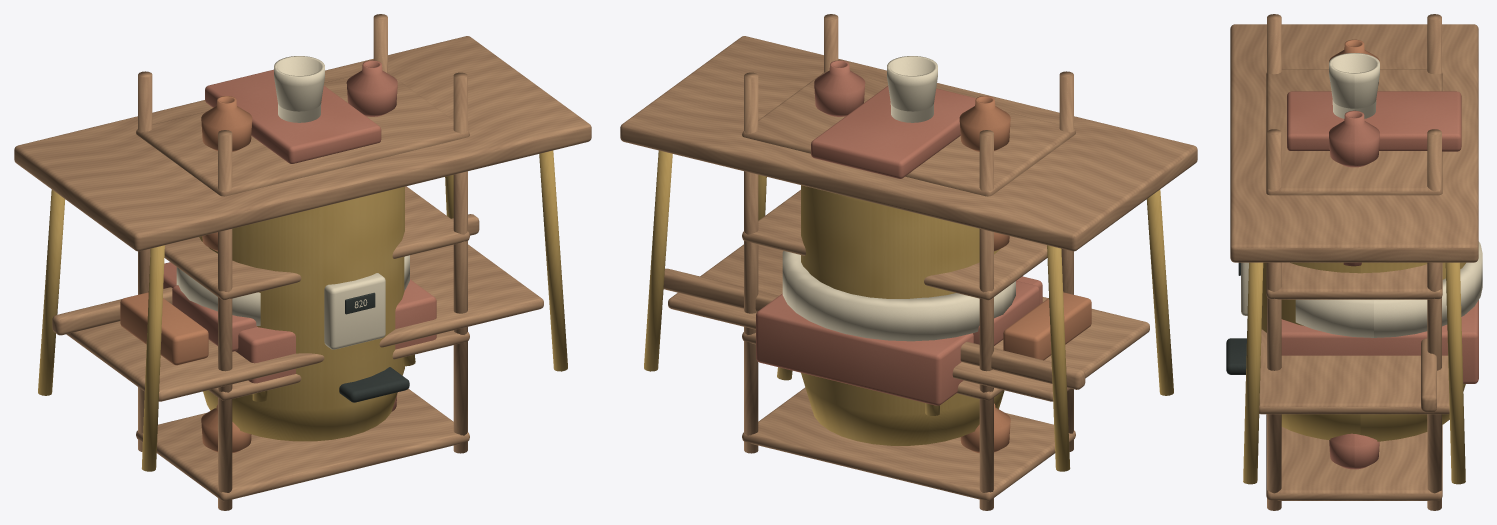
Rendered from tidy-life-workshop.glb.
The picture shows the model from 3 angles, left to right: view 1: azimuth 30°, elevation 25°; view 2: azimuth 150°, elevation 25°; view 3: azimuth 270°, elevation 25°; orthographic projection.
Visible parts, largest first — view 1: life_workshop_potterybench_mesh, life_workshop_clayrack_mesh, life_workshop_kiln_mesh, life_workshop_potterywheel_mesh; view 2: life_workshop_potterybench_mesh, life_workshop_clayrack_mesh, life_workshop_kiln_mesh, life_workshop_potterywheel_mesh; view 3: life_workshop_potterybench_mesh, life_workshop_clayrack_mesh, life_workshop_kiln_mesh, life_workshop_potterywheel_mesh.
Boxes of the visible parts, box(x1,y1,x2,y2) form: life_workshop_potterybench_mesh: box(14, 36, 591, 471); life_workshop_clayrack_mesh: box(136, 14, 469, 510); life_workshop_kiln_mesh: box(199, 69, 404, 441); life_workshop_potterywheel_mesh: box(163, 255, 436, 402); life_workshop_potterybench_mesh: box(620, 36, 1197, 471); life_workshop_clayrack_mesh: box(742, 14, 1075, 510); life_workshop_kiln_mesh: box(801, 85, 1004, 445); life_workshop_potterywheel_mesh: box(756, 251, 1042, 415); life_workshop_potterybench_mesh: box(1230, 24, 1478, 484); life_workshop_clayrack_mesh: box(1266, 14, 1442, 510); life_workshop_kiln_mesh: box(1238, 91, 1465, 441); life_workshop_potterywheel_mesh: box(1226, 241, 1482, 383).
Size of the model in its own units: 0.66 by 0.53 by 0.32.
Materials: 6 (6 with a texture image).
